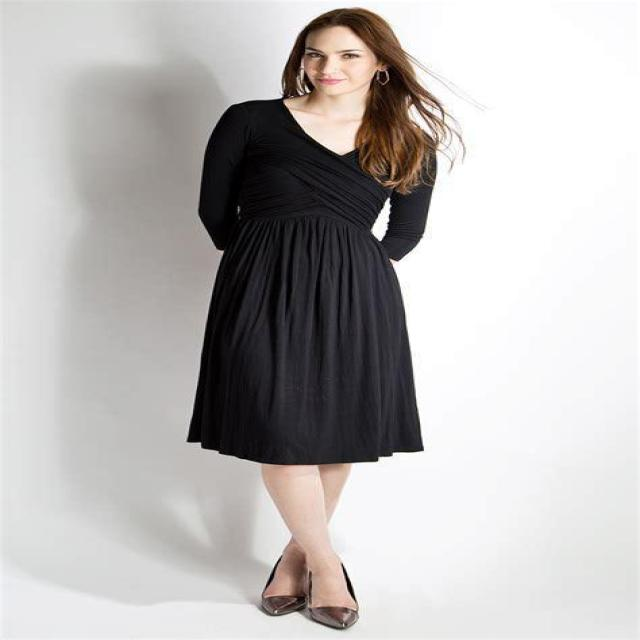dress: (185, 98, 437, 466)
